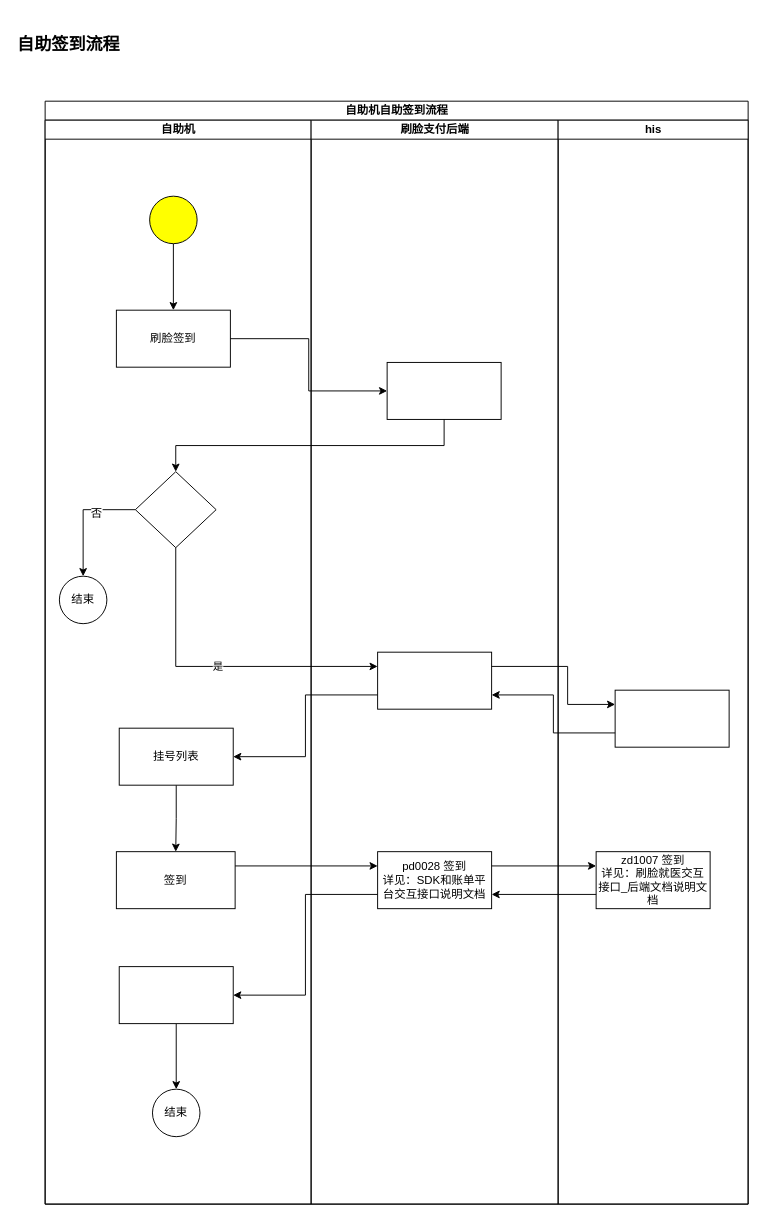
The diagram is 765 pixels wide and 1221 high, and some of its shapes have lost their labels. The centre of each missing label's shape, as x and y in pixels:
"kz0002 凯泽刷脸1:N 详见：SDK和账单平台交互接口说明文档" goes at (443,390).
"pd0027 挂号信息列表 详见：SDK和账单平台交互接口说明文档" goes at (434,680).
"zd1006 挂号信息列表 详见：刷脸就医交互接口_后端文档说明文档" goes at (671,718).
"开始" goes at (173,219).
"是否匹配个人信息并返回" goes at (175,509).
"签到结果" goes at (175,995).
